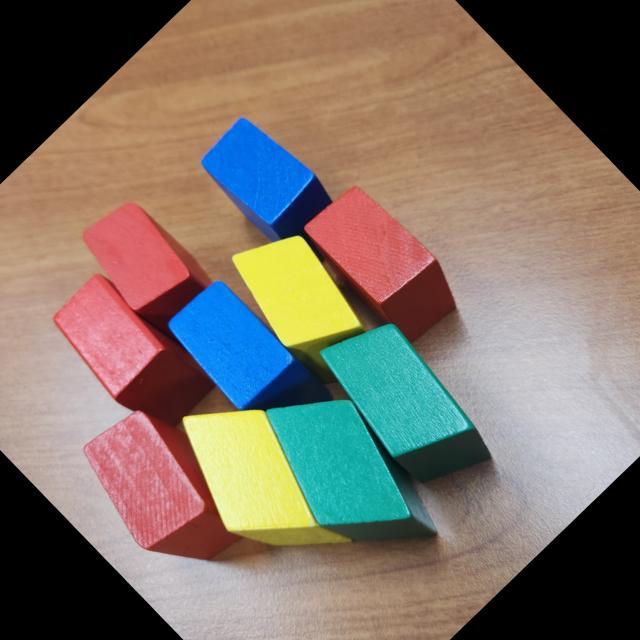blue: (160, 273, 338, 453), (192, 107, 349, 265)
green: (234, 362, 460, 590), (302, 298, 510, 508)
red: (64, 388, 268, 594), (292, 174, 474, 358), (43, 264, 220, 442), (70, 188, 228, 347)
yellow: (149, 373, 373, 599), (216, 212, 380, 378)
